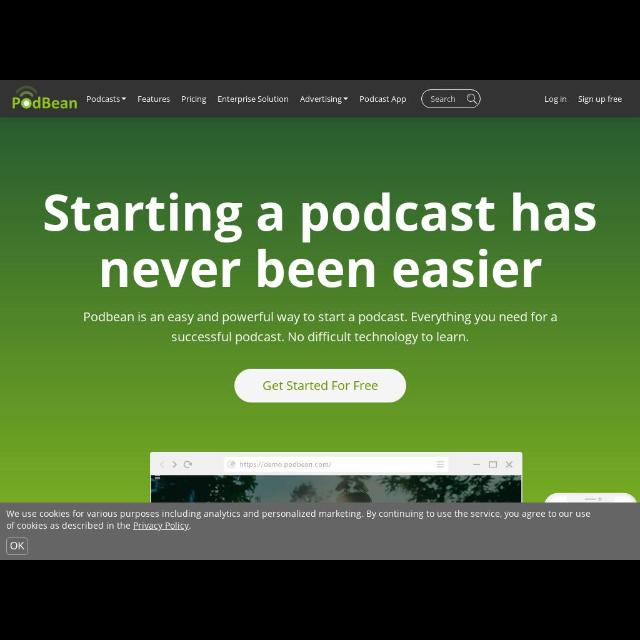icon: (466, 92, 478, 106), (120, 96, 128, 102), (342, 96, 348, 102)
image: (150, 452, 522, 503), (10, 88, 78, 110)
spinner: (300, 95, 348, 105), (86, 96, 126, 102)
text: (45, 194, 597, 288), (84, 310, 558, 342), (6, 510, 592, 530), (263, 381, 379, 395), (300, 95, 342, 105), (218, 96, 286, 102), (362, 96, 406, 104), (578, 96, 622, 104), (86, 95, 120, 103), (181, 96, 207, 104), (138, 96, 170, 102), (432, 96, 456, 104), (545, 96, 569, 104), (10, 541, 26, 551)
textbutton: (234, 370, 406, 402), (422, 91, 482, 109), (7, 538, 27, 554)
toolbar: (1, 80, 639, 118)
